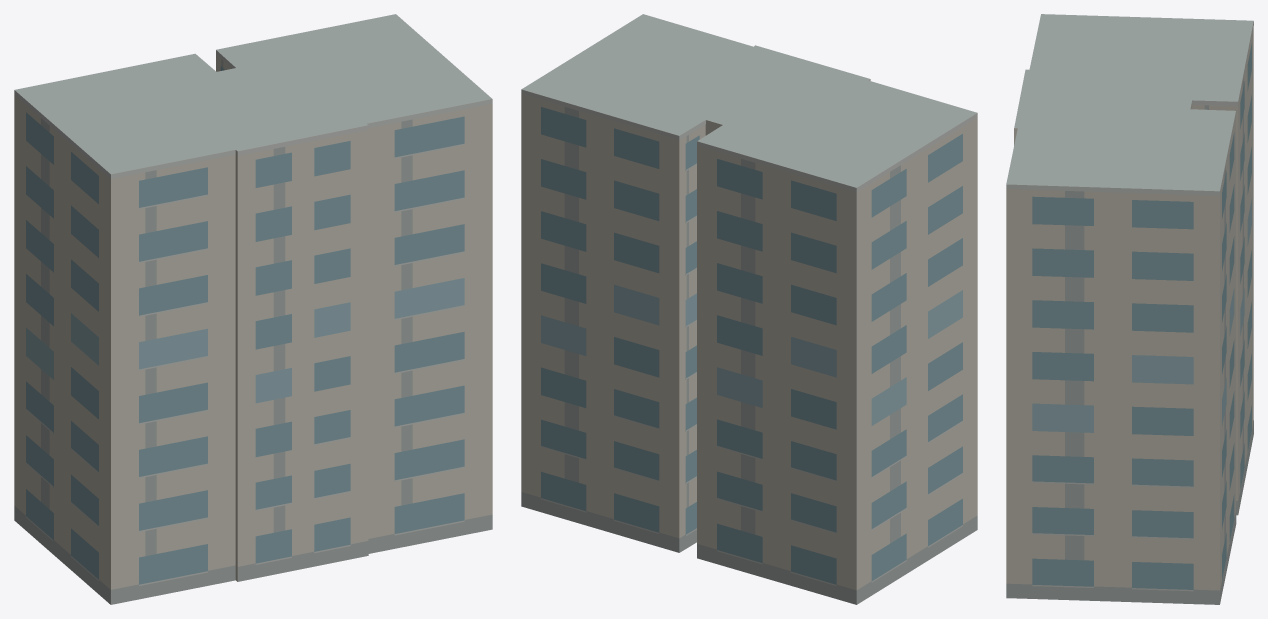
Rendered from survey-upis-33007228.glb.
3 views of the same model, side by side, from view 1: azimuth 30°, elevation 25°; view 2: azimuth 150°, elevation 25°; view 3: azimuth 270°, elevation 25° (orthographic). The views are drawn at different scales.
Parts seen in each view (by area): view 1: survey-upis-33007228.tmp; view 2: survey-upis-33007228.tmp; view 3: survey-upis-33007228.tmp.
Part boxes in pixels (x1=…): survey-upis-33007228.tmp: x1=14, y1=14, x2=492, y2=604; survey-upis-33007228.tmp: x1=521, y1=14, x2=977, y2=604; survey-upis-33007228.tmp: x1=1006, y1=14, x2=1253, y2=604.
Bounding box in the file's own units: 20.59 × 22.39 × 12.16.
